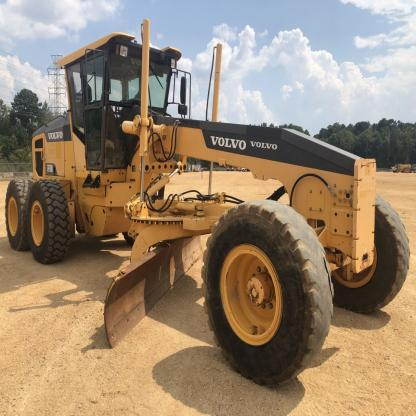bull_dozer/loader/grader: (6, 27, 416, 400)
